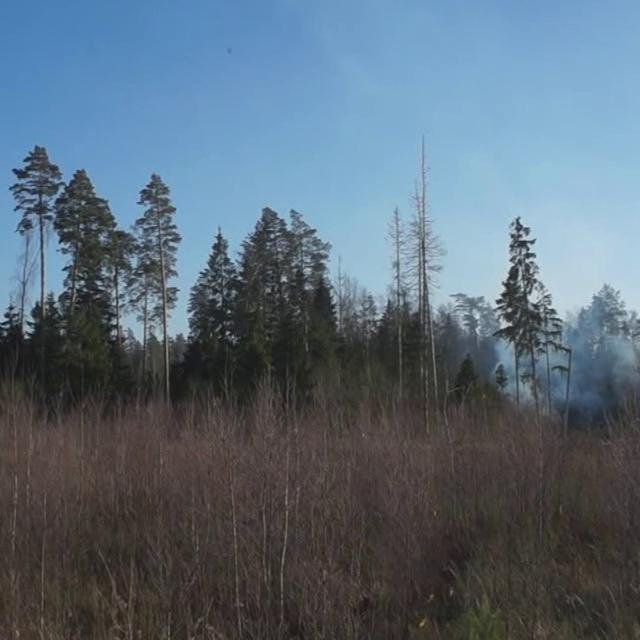Smoke: (475, 286, 639, 435)
